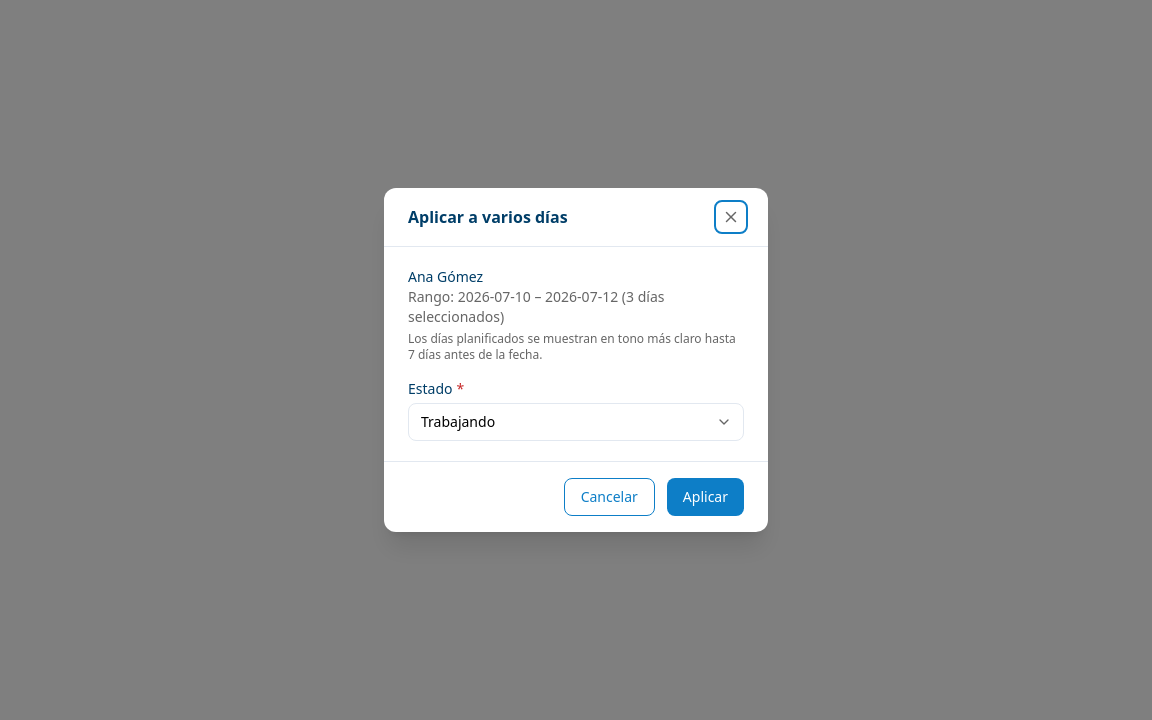
Test: RangeEditModal: validación de motivo obligatorio › periodo_fuera_trabajo sin motivo bloquea el envío y muestra el error
Select "Fuera del trabajo" in the dropdown labelled "Estado" at (576, 422), box [408,403,744,441]
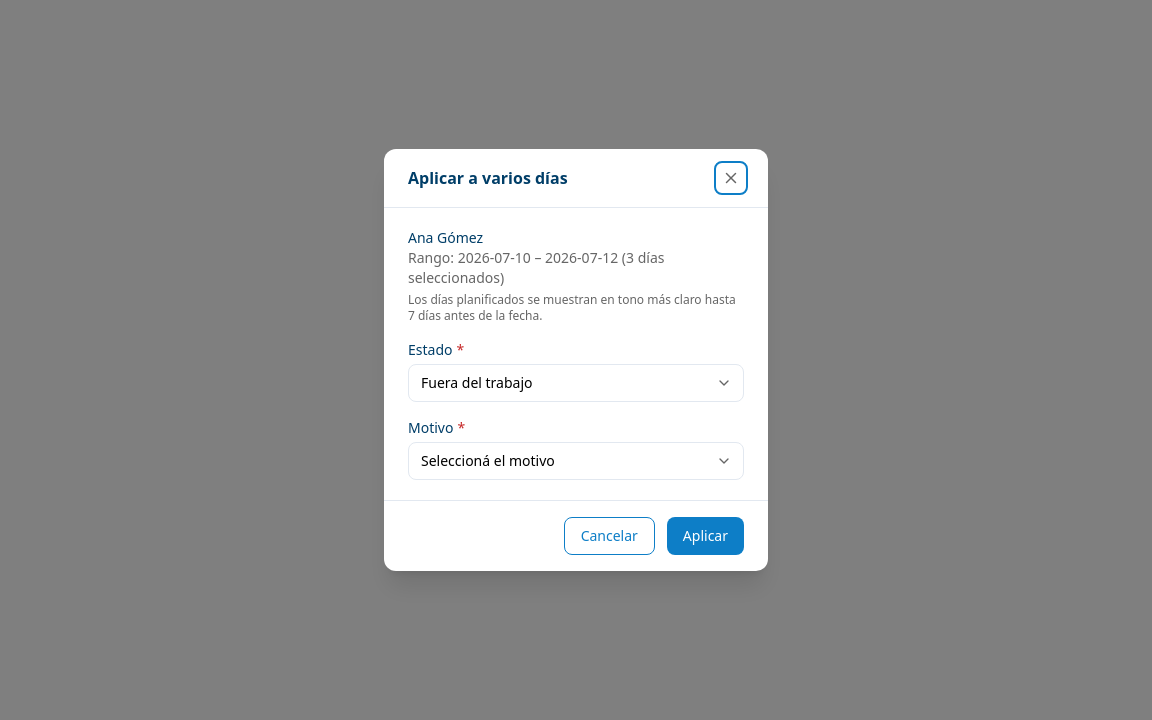
Submit the form with id "range-edit-form", box [408,228,744,480]
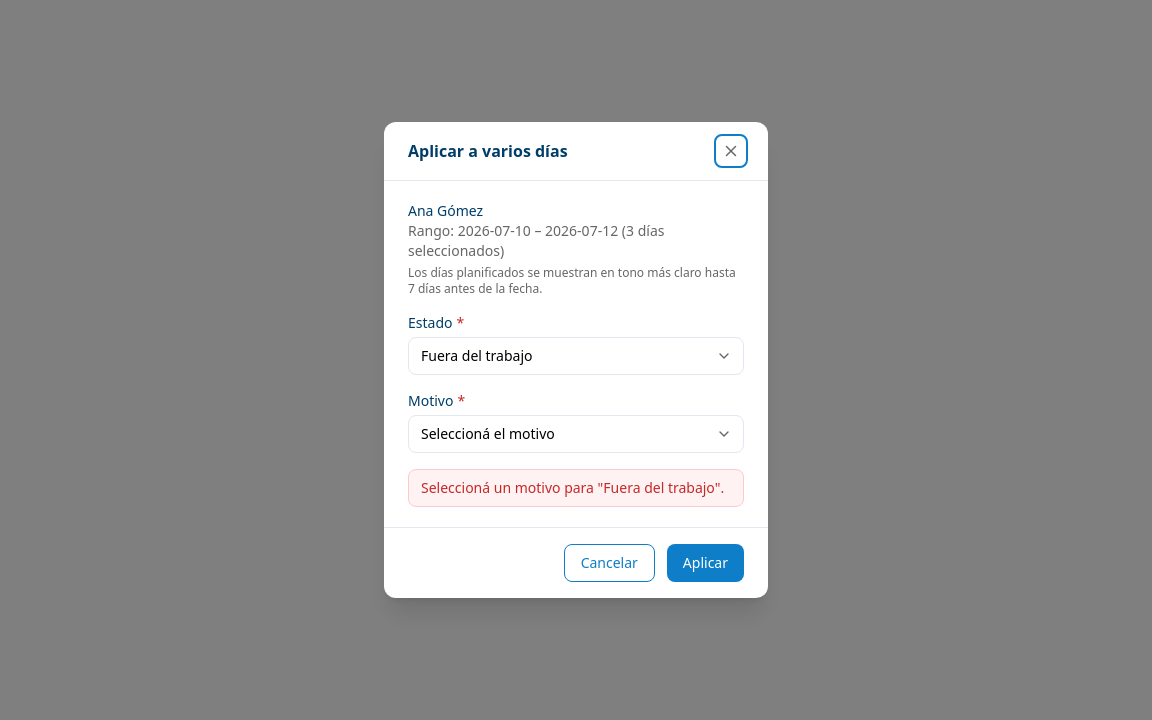
Expected: the text "Seleccioná un motivo para \"Fuera del trabajo\"." is shown, [408,469,744,507]
